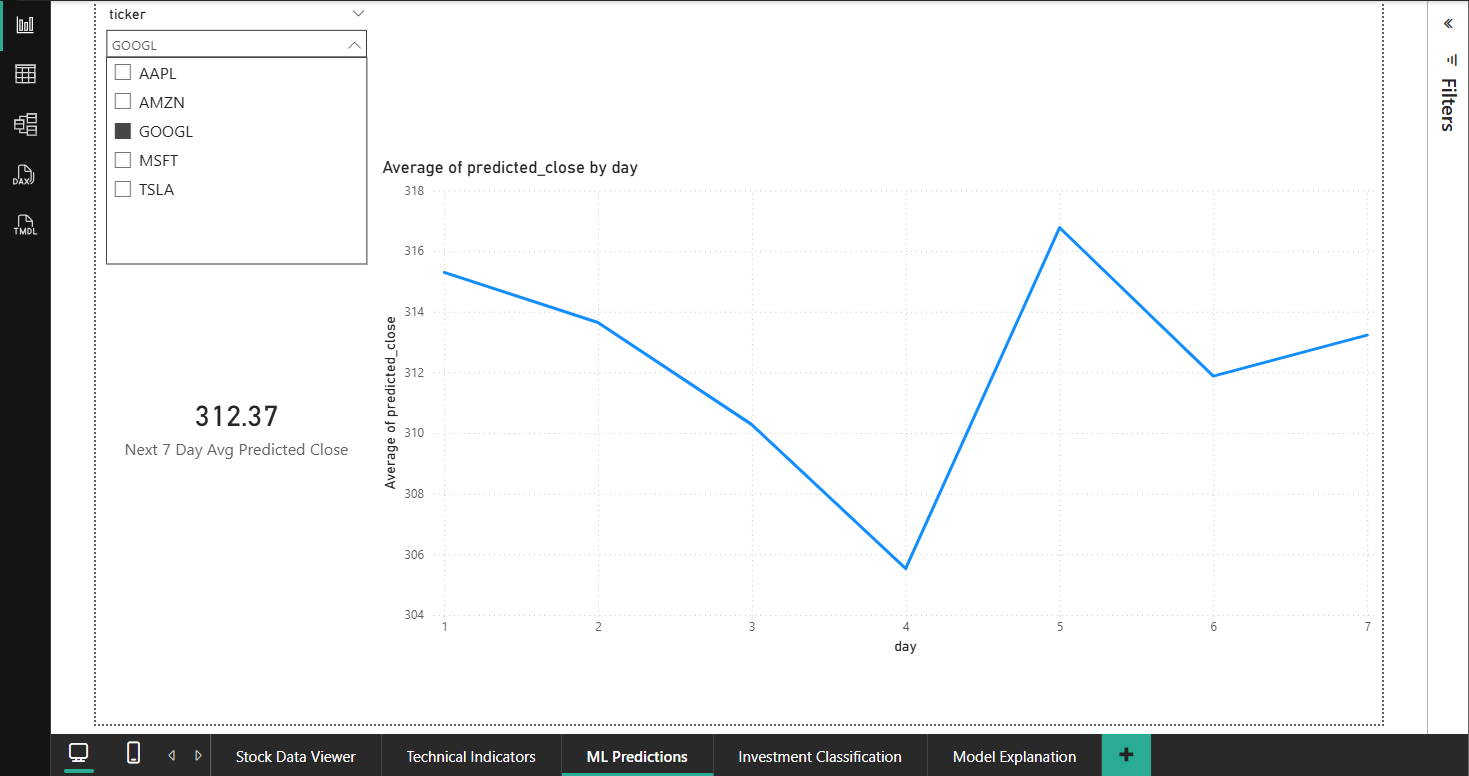

Layout of this report page (visuals, bound fields, positions):
{"tool":"powerbi","page":{"name":"ML Predictions","canvas":[1280,720],"ordinal":2},"visuals":[{"type":"slicer","fields":{"Values":["ml_predictions.ticker"]},"box":[0,0,279.9,279.9],"z":0},{"type":"lineChart","fields":{"Category":["ml_predictions.day"],"Y":["Avg(ml_predictions.predicted_close)"]},"box":[279.9,155.1,1000.3,499.5],"z":1000},{"type":"card","fields":{"Values":["historical_data.Next 7 Day Avg Predicted Close"]},"box":[0,258,279.9,328],"z":2000}]}

Visuals, with their boxes on the page's 1280x720 design canvas (x1, y1, x2, y2). These are canvas units, not pixel positions in the 1469x776 screenshot, which may show the page scaled, cropped or inside an application window:
slicer - ml_predictions.ticker: {"x1": 0, "y1": 0, "x2": 280, "y2": 280}
lineChart - ml_predictions.day x Avg(ml_predictions.predicted_close): {"x1": 280, "y1": 155, "x2": 1280, "y2": 655}
card - historical_data.Next 7 Day Avg Predicted Close: {"x1": 0, "y1": 258, "x2": 280, "y2": 586}
